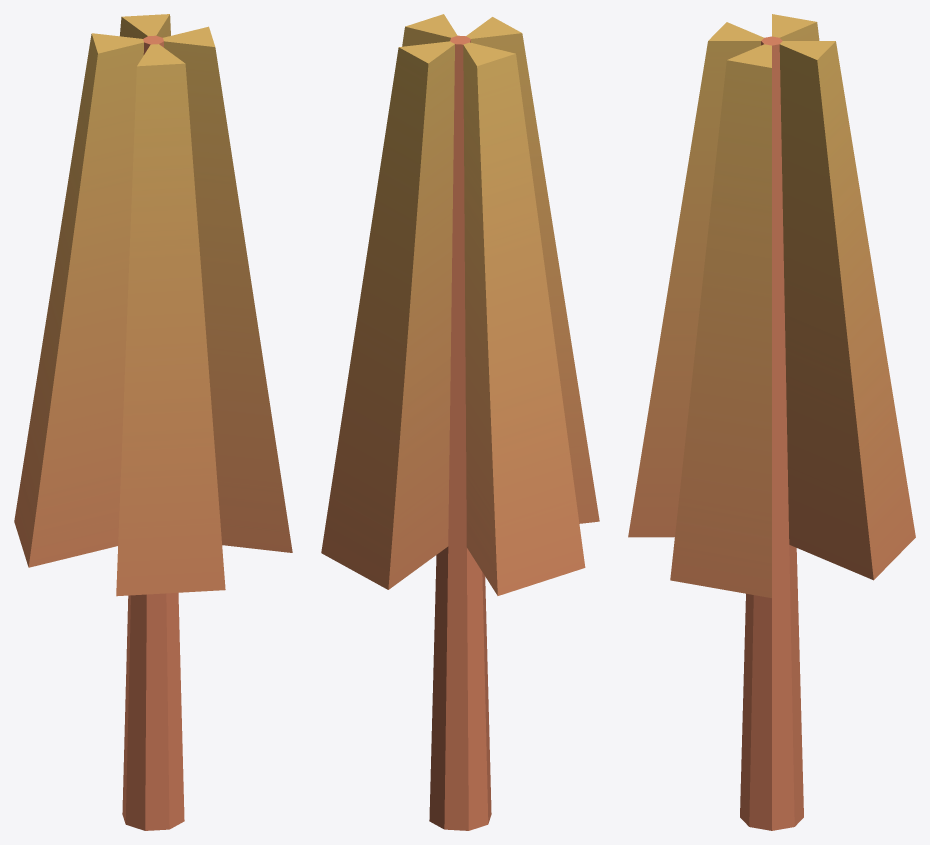
Rendered from Tree_28_gradient_yellow.fbx.
3 views of the same model, side by side, from view 1: azimuth 30°, elevation 25°; view 2: azimuth 150°, elevation 25°; view 3: azimuth 270°, elevation 25° (orthographic).
Parts seen in each view (by area): view 1: Tree_28_gradient_yellow; view 2: Tree_28_gradient_yellow; view 3: Tree_28_gradient_yellow.
Part boxes in pixels (x1,y1,x2,y2): Tree_28_gradient_yellow: (14, 14, 292, 830); Tree_28_gradient_yellow: (321, 14, 599, 830); Tree_28_gradient_yellow: (628, 14, 915, 830).
Bounding box in the file's own units: 98.97 × 294 × 98.97.
